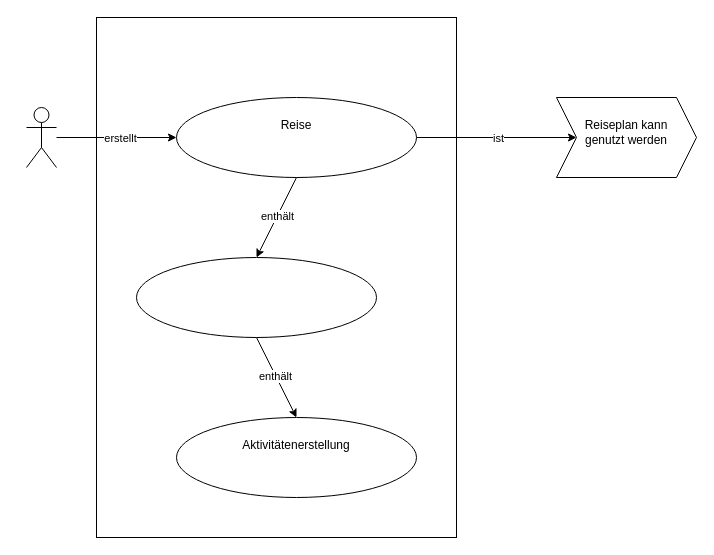
This 714x555 diagram has some shape labels left out. Here are the shapes that lost their labels. From the top down, the centre of each, then its label:
the point at 41,137: Benutzer
the point at 256,297: Aktivitätenplanung
